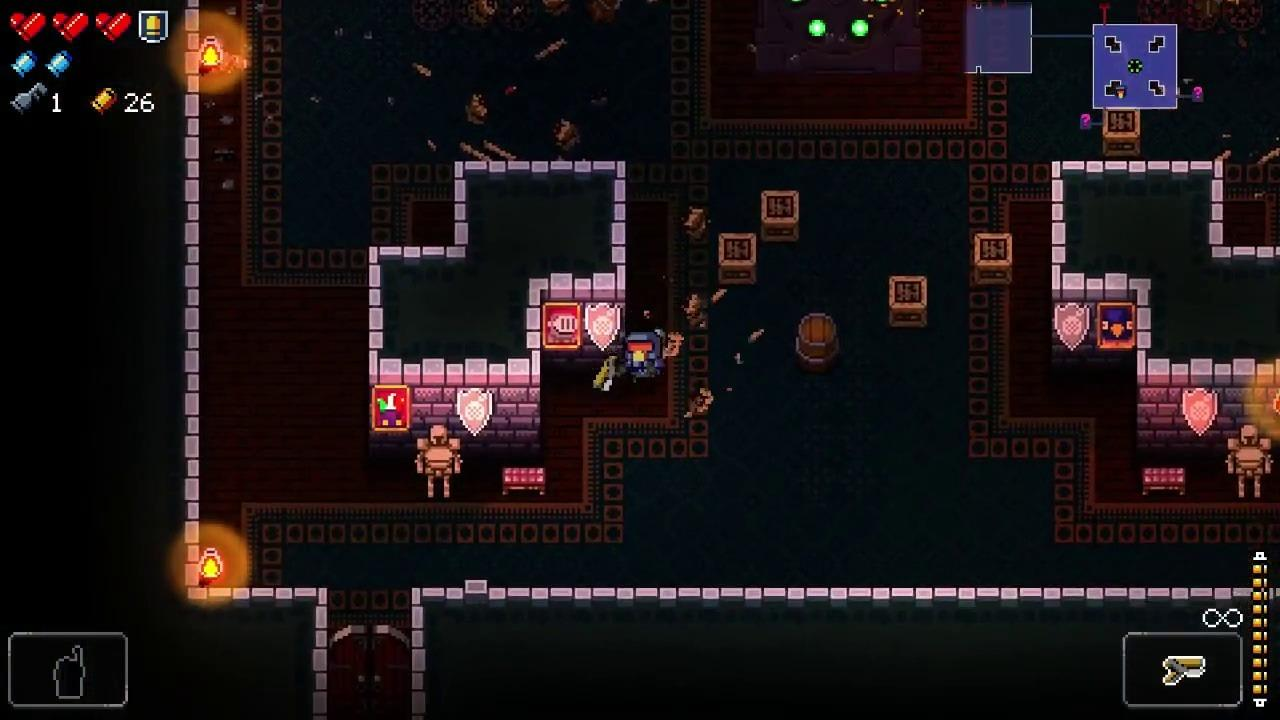player: (623, 329, 665, 385)
teleporter: (757, 0, 924, 74)
unlocked_door: (326, 625, 411, 715)
